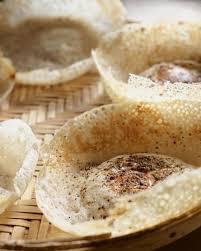Hoppers: (43, 92, 198, 248)
